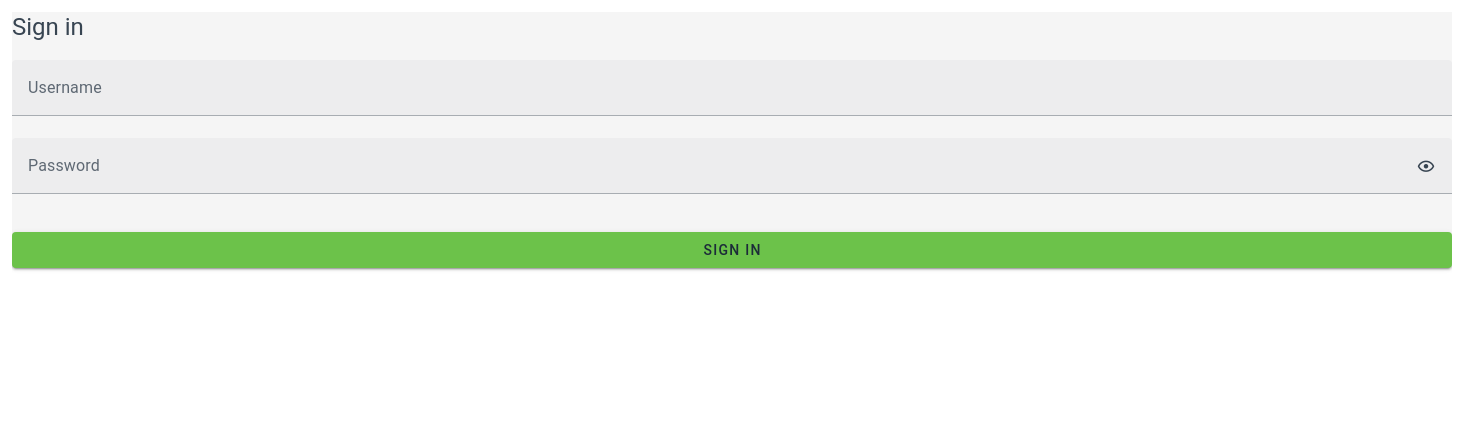
<LoginView /> › says it was the code that failed
This screenshot has width=1464, height=426.
Type "ann" into the field labelled "Username".
click(732, 88); type("ann")  # box x1=12 y1=60 x2=1452 y2=116
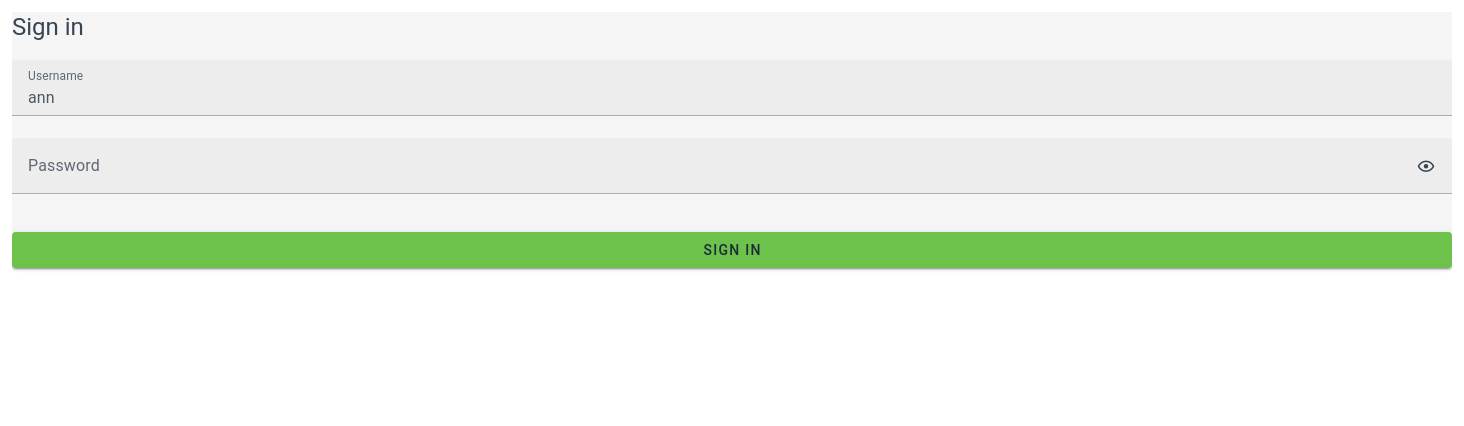
Type "correct horse battery" into the password field labelled "Password".
click(712, 166); type("correct horse battery")  # box x1=12 y1=138 x2=1412 y2=194
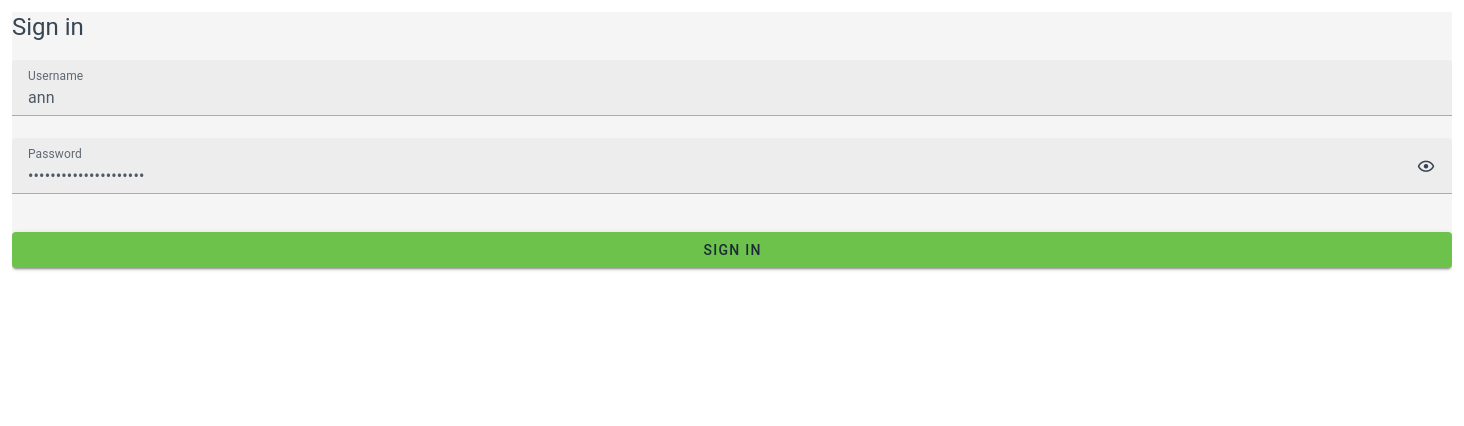
Submit the form, box x1=12 y1=60 x2=1452 y2=268
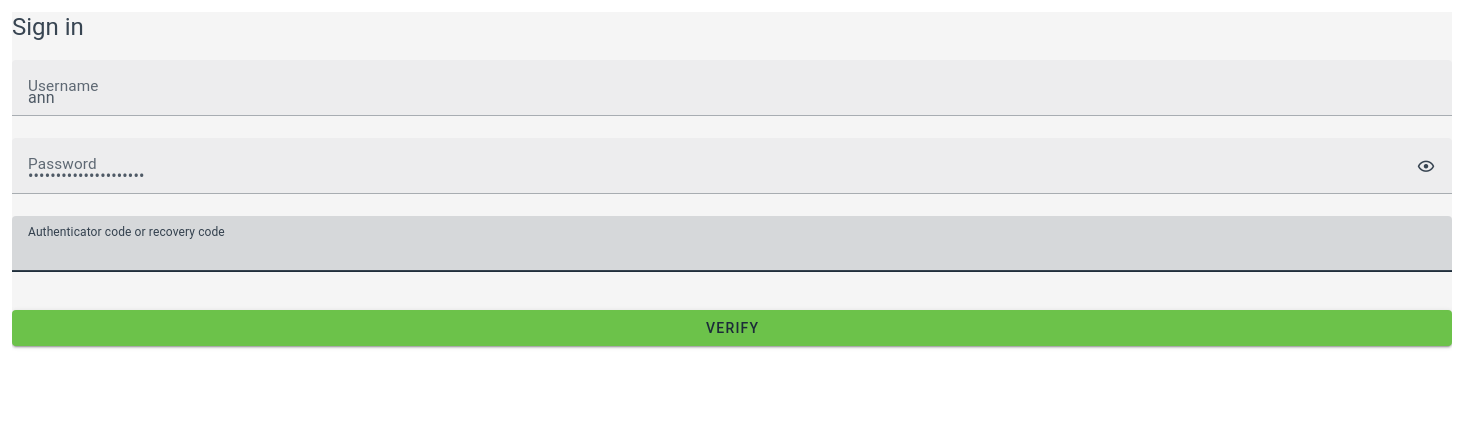
Type "000000" into the field labelled "Authenticator code or recovery code".
click(732, 244); type("000000")  # box x1=12 y1=216 x2=1452 y2=272
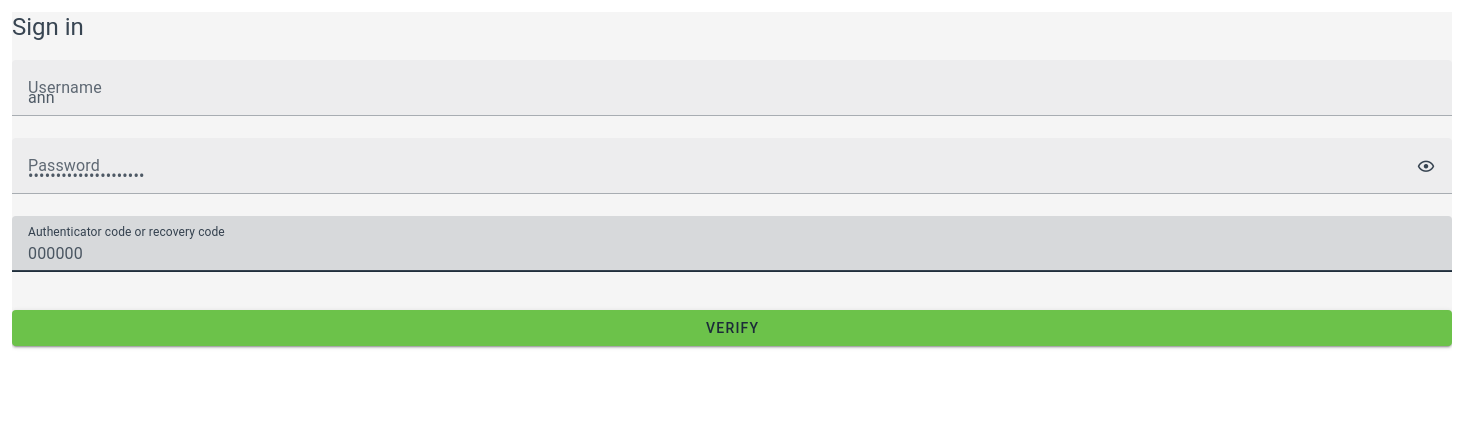
Submit the form
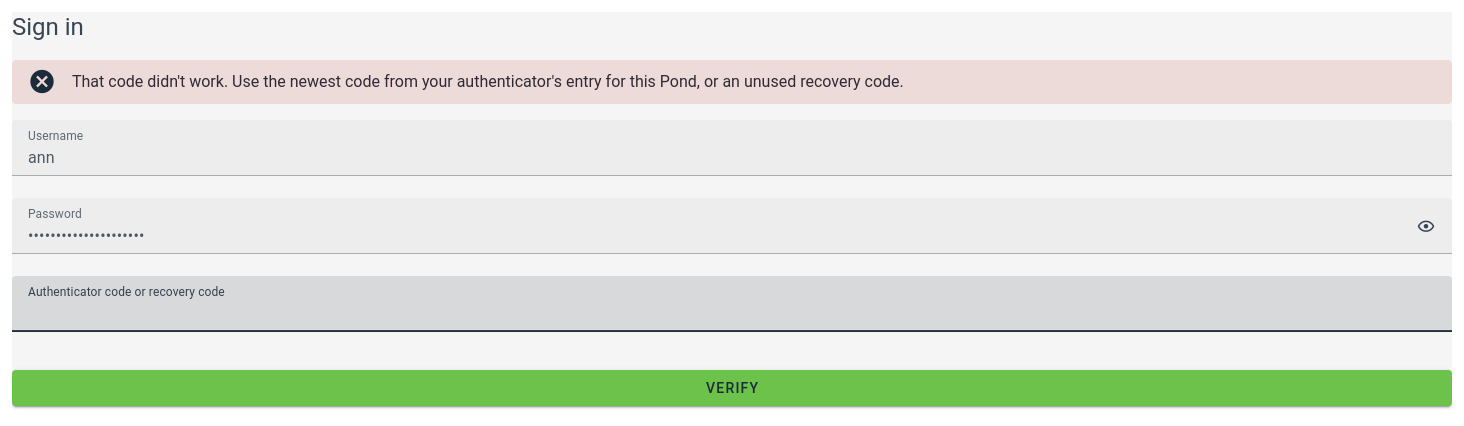
Result: the text "That code didn't work" is shown at x1=72 y1=72 x2=904 y2=91
